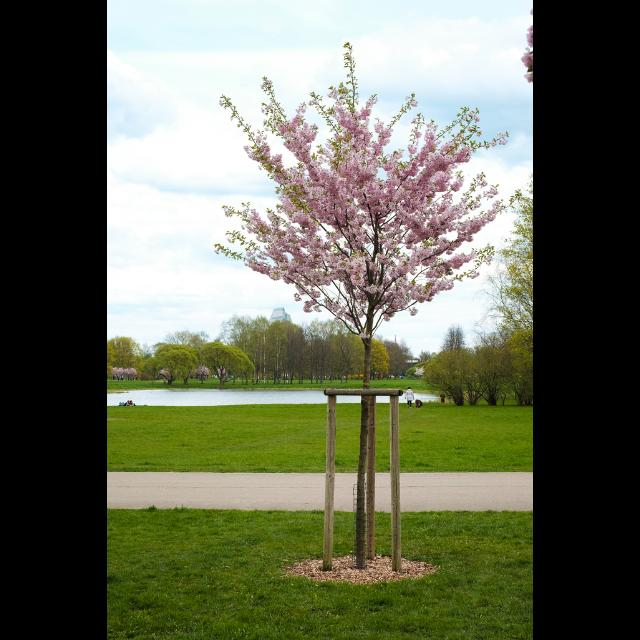Flower: (217, 89, 498, 333)
